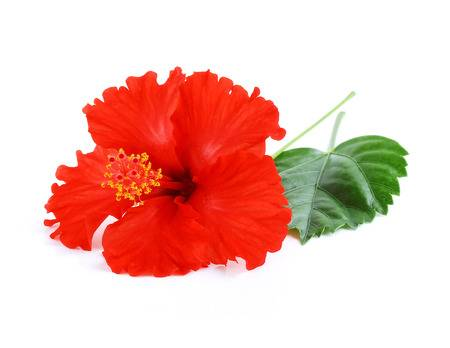Hibiscus: (38, 76, 310, 278)
